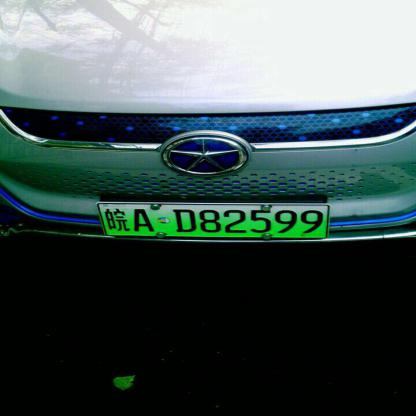lp: (96, 204, 329, 236)
